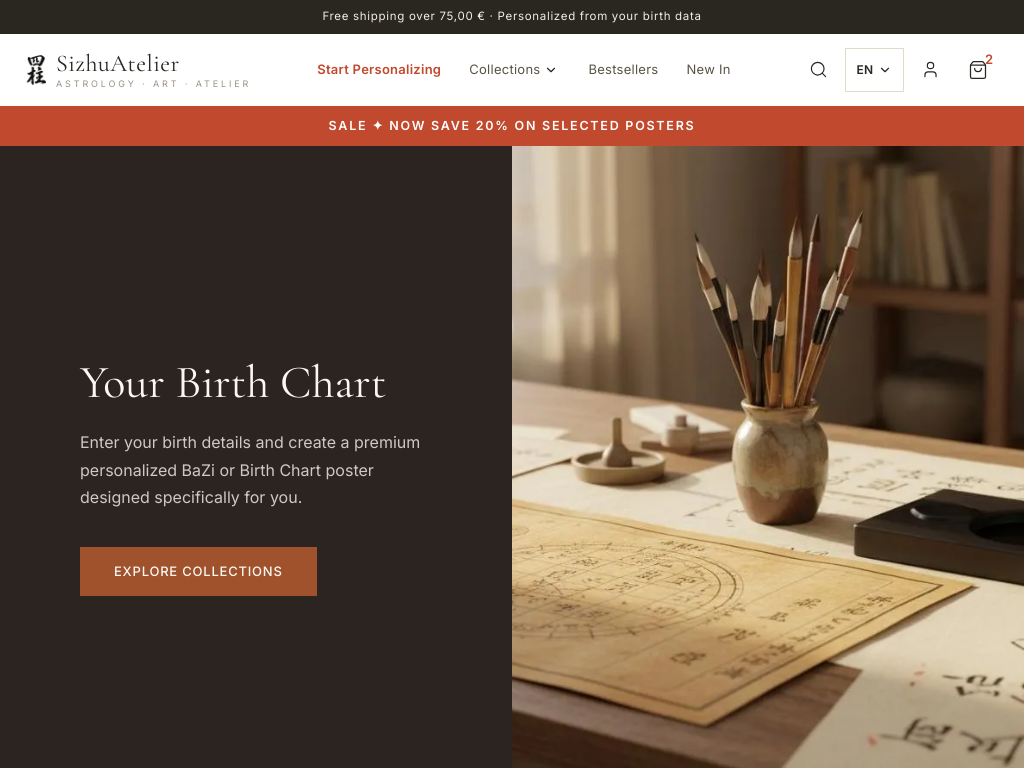
Test case: REQ-014 / AT-014-3 — mixed cart gates the notice to the BaZi line only › shows the notice at the BaZi line and NOT at the TCM line
Click the button labelled "2" at [978, 70], box [956,48,1000,92]
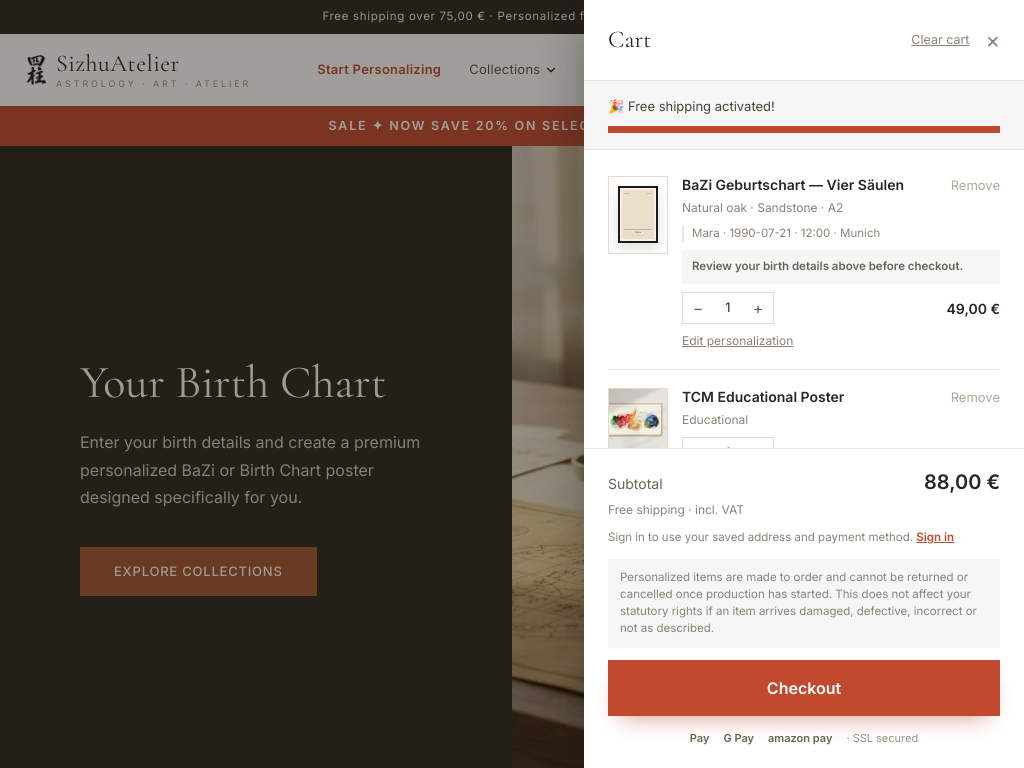
Expected: the number of elements with test id "cart-line-birth-review" is 1, [682,250,1000,284]
